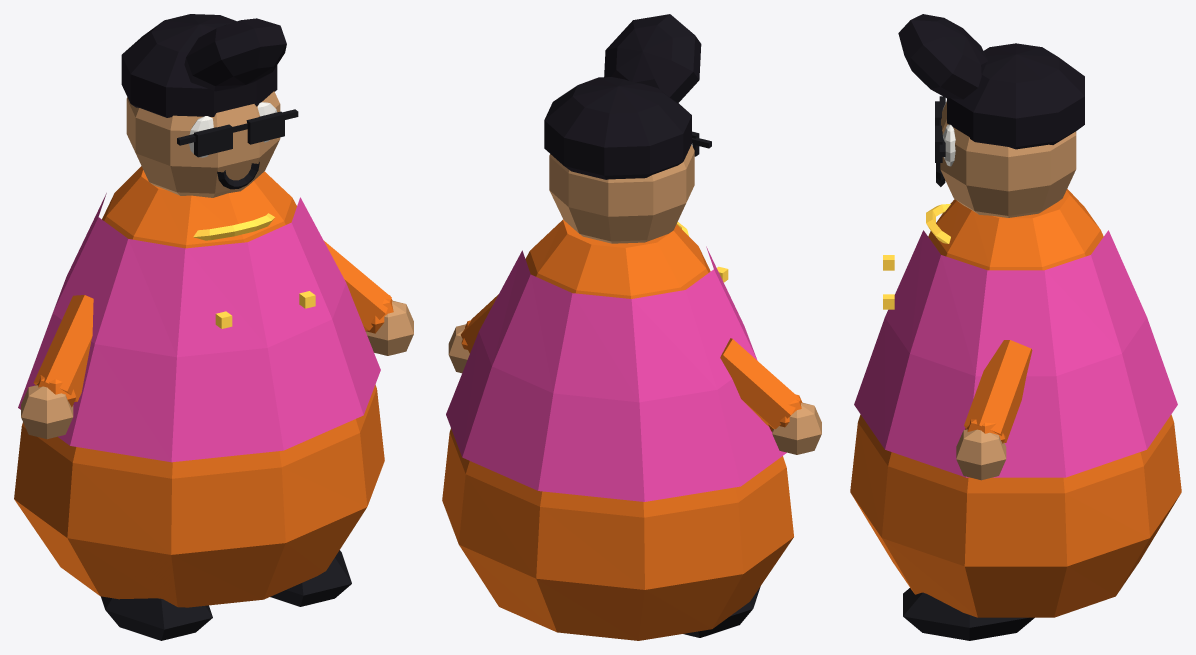
Rendered from npc_rulo.glb.
3 views of the same model, side by side, from view 1: azimuth 30°, elevation 25°; view 2: azimuth 150°, elevation 25°; view 3: azimuth 270°, elevation 25° (orthographic). The views are drawn at different scales.
Parts seen in each view (by area): view 1: body_rulo_jacket, body_jumpsuit, head_hair_black, head_skin_arena, arms_jumpsuit, legs_black, arms_skin_arena, face_black, body_gold, face_white; view 2: body_rulo_jacket, body_jumpsuit, head_hair_black, head_skin_arena, arms_jumpsuit, arms_skin_arena, legs_black; view 3: body_rulo_jacket, body_jumpsuit, head_hair_black, head_skin_arena, arms_jumpsuit, legs_black, arms_skin_arena, body_gold, face_black.
Boxes of the visible parts, bbox=[...] form: body_rulo_jacket: bbox=[18, 193, 380, 462]; body_jumpsuit: bbox=[14, 166, 384, 607]; head_hair_black: bbox=[121, 14, 286, 117]; head_skin_arena: bbox=[126, 91, 280, 197]; arms_jumpsuit: bbox=[33, 240, 393, 407]; legs_black: bbox=[101, 550, 351, 640]; arms_skin_arena: bbox=[21, 301, 413, 439]; face_black: bbox=[177, 109, 298, 189]; body_gold: bbox=[193, 213, 315, 328]; face_white: bbox=[189, 102, 276, 157]; body_rulo_jacket: bbox=[446, 246, 786, 501]; body_jumpsuit: bbox=[442, 219, 793, 640]; head_hair_black: bbox=[544, 14, 701, 179]; head_skin_arena: bbox=[549, 145, 694, 243]; arms_jumpsuit: bbox=[461, 294, 802, 431]; arms_skin_arena: bbox=[448, 324, 821, 454]; legs_black: bbox=[683, 586, 760, 637]; body_rulo_jacket: bbox=[854, 230, 1177, 477]; body_jumpsuit: bbox=[850, 189, 1181, 617]; head_hair_black: bbox=[898, 14, 1084, 149]; head_skin_arena: bbox=[940, 102, 1076, 217]; arms_jumpsuit: bbox=[964, 340, 1032, 443]; legs_black: bbox=[903, 588, 1034, 640]; arms_skin_arena: bbox=[956, 429, 1006, 480]; body_gold: bbox=[883, 204, 950, 309]; face_black: bbox=[935, 96, 945, 186].
Size of the model in its own units: 1.13 by 1.66 by 0.86.
